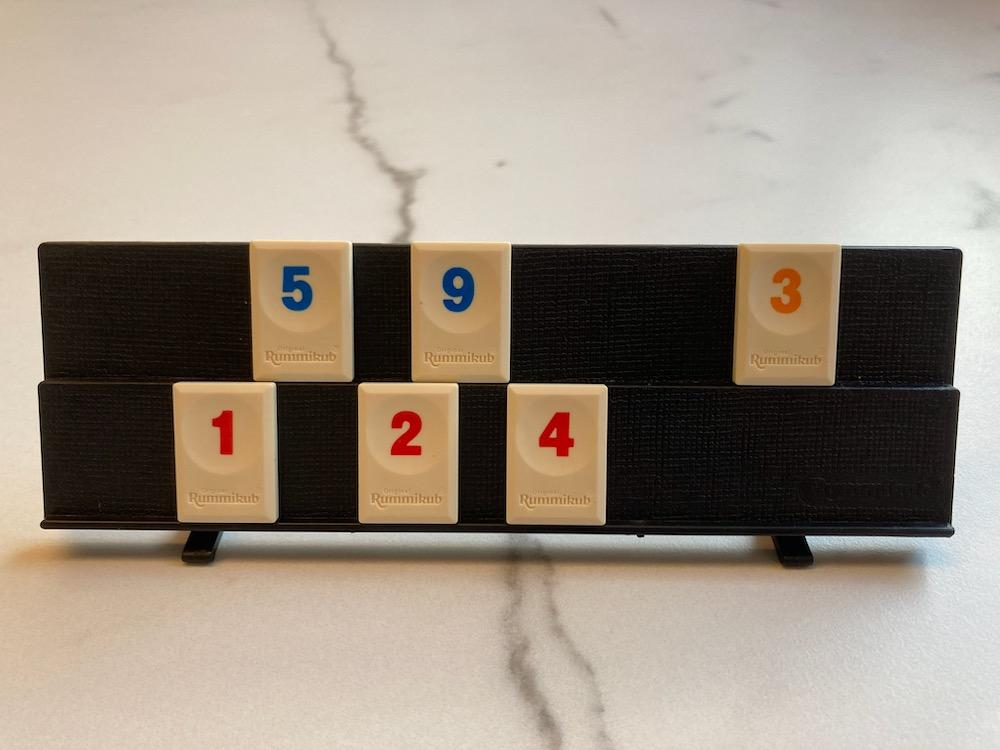blue_5: (251, 242, 352, 381)
blue_9: (412, 242, 512, 383)
orange_3: (732, 244, 840, 385)
red_1: (172, 383, 279, 523)
red_2: (357, 383, 457, 523)
red_4: (506, 383, 607, 525)
